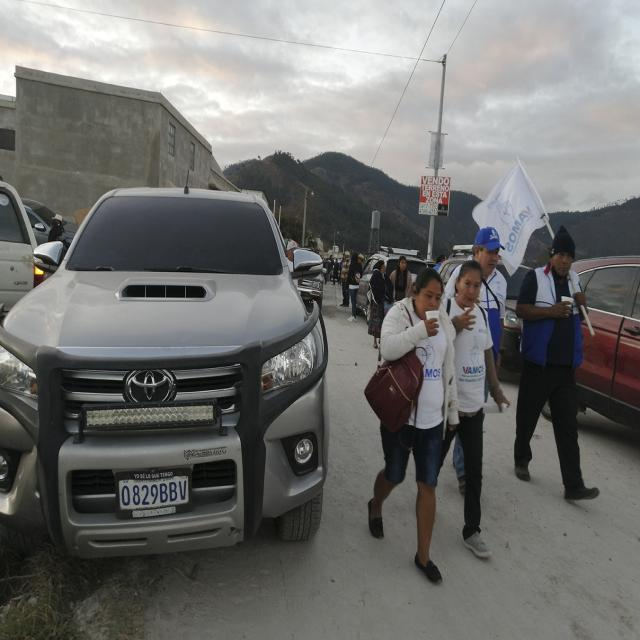Placas: (110, 464, 195, 520)
